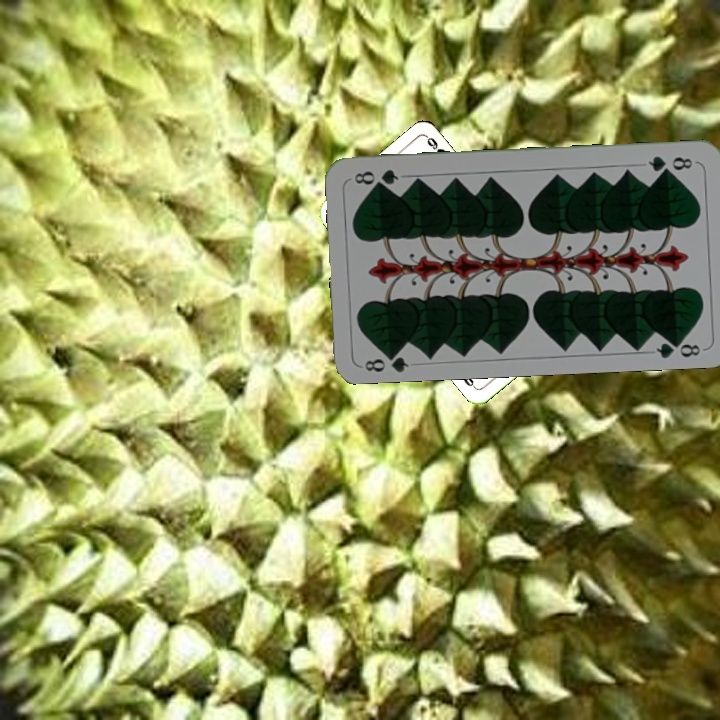G8: (361, 346, 411, 375), (644, 151, 695, 175)
